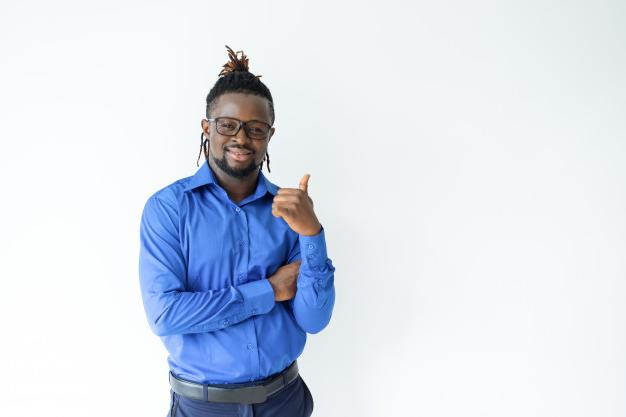thumbsup: (272, 173, 311, 216)
